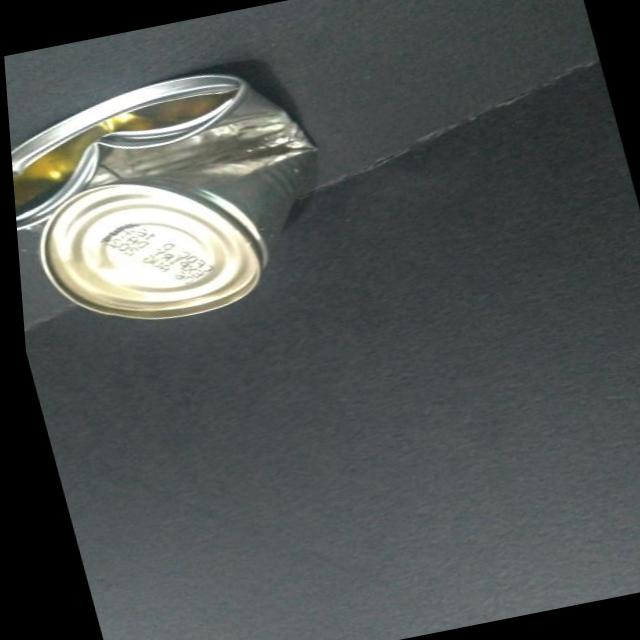metal: (4, 52, 365, 353)
